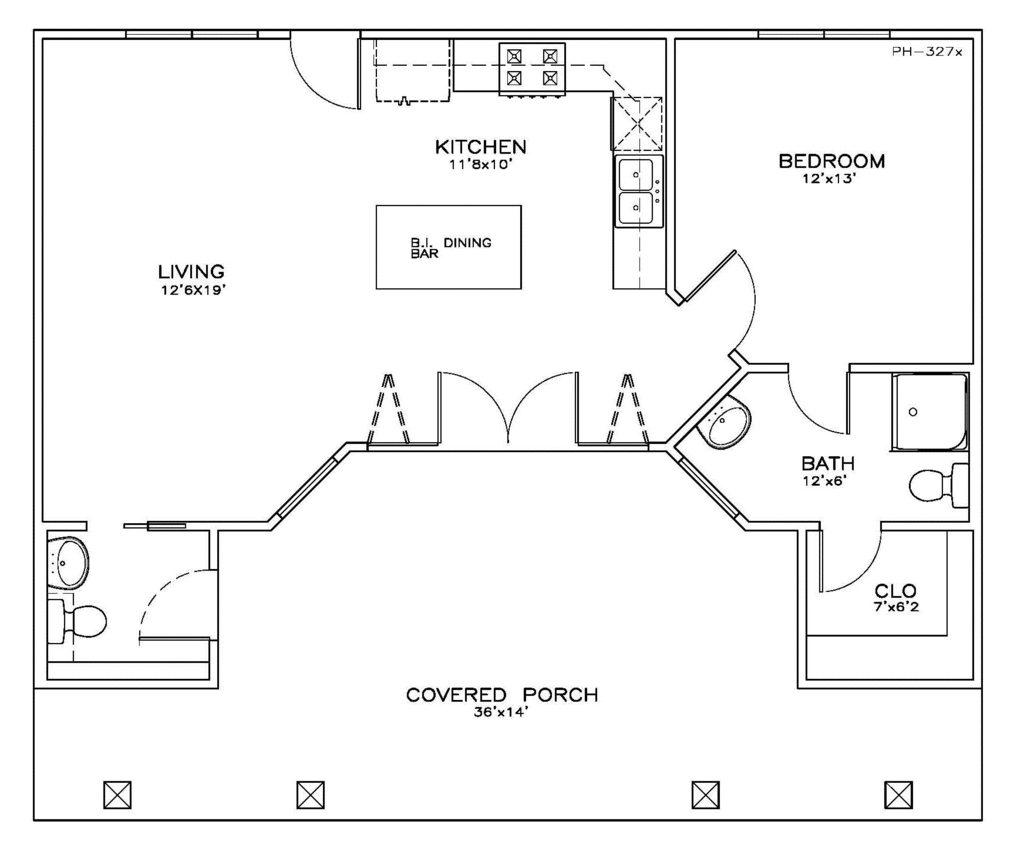door: (436, 374, 575, 444), (685, 249, 758, 350), (290, 31, 362, 109), (785, 367, 857, 436), (822, 526, 881, 594)
kitchen_bar: (450, 42, 664, 149)
large_sink: (900, 457, 970, 515), (48, 596, 111, 654)
sink: (893, 376, 971, 449)
small_sink: (692, 393, 753, 450), (49, 531, 92, 591)
twin_sink: (616, 153, 666, 231)
window: (757, 25, 894, 38), (128, 29, 259, 42)
